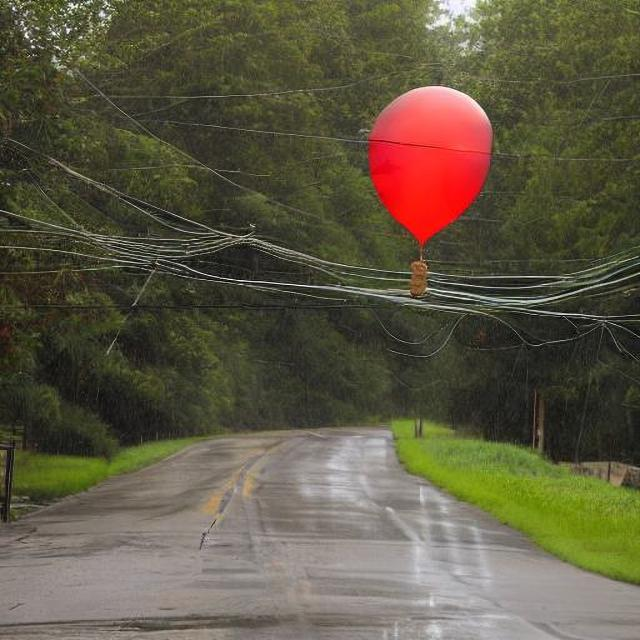balloon: (356, 80, 494, 284)
